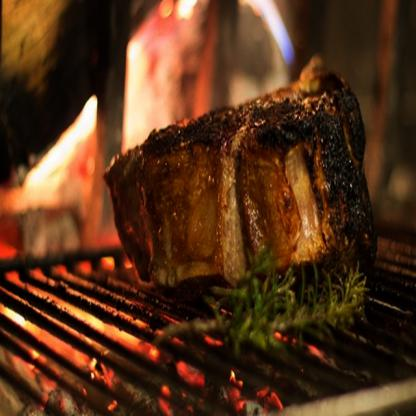Carne: (107, 49, 381, 296)
